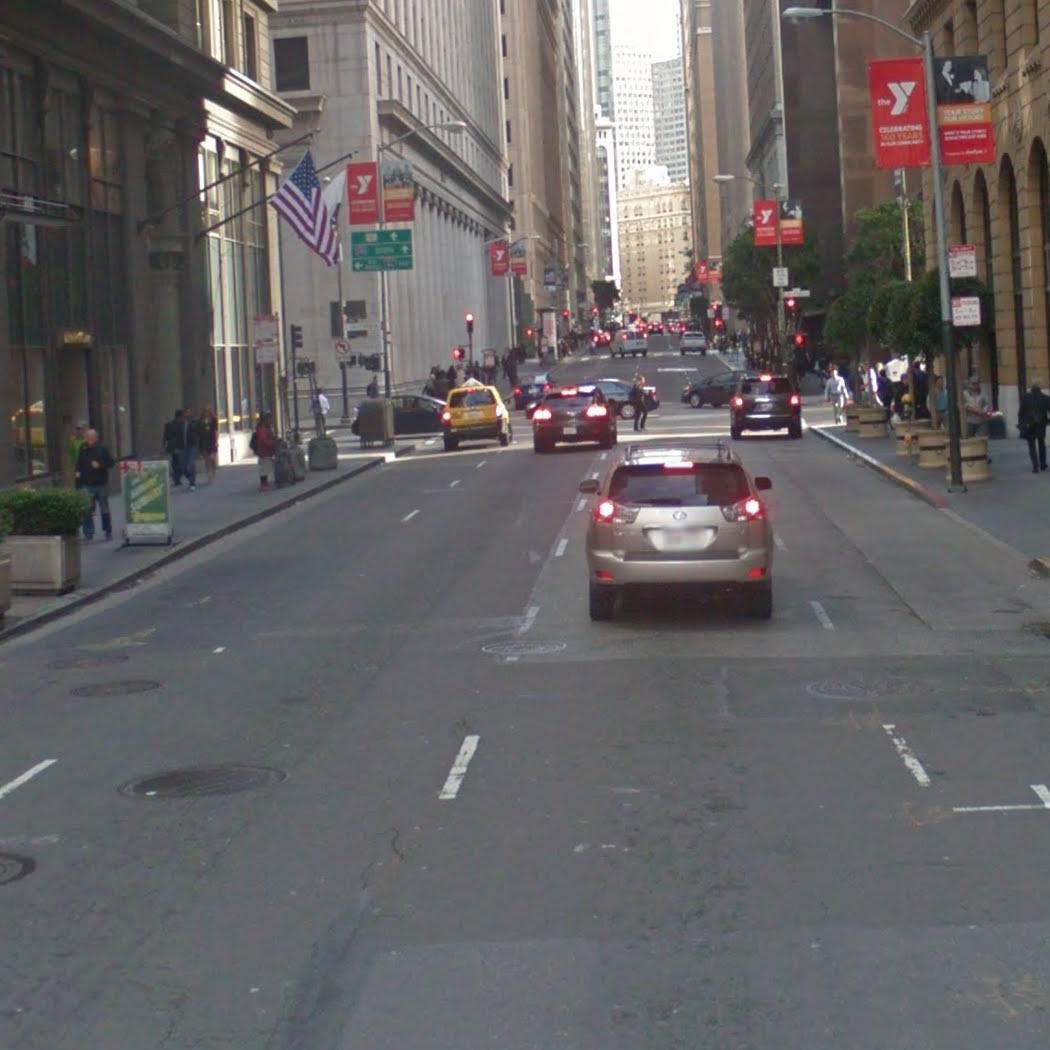No Parking: (949, 294, 982, 328), (256, 341, 279, 362)
